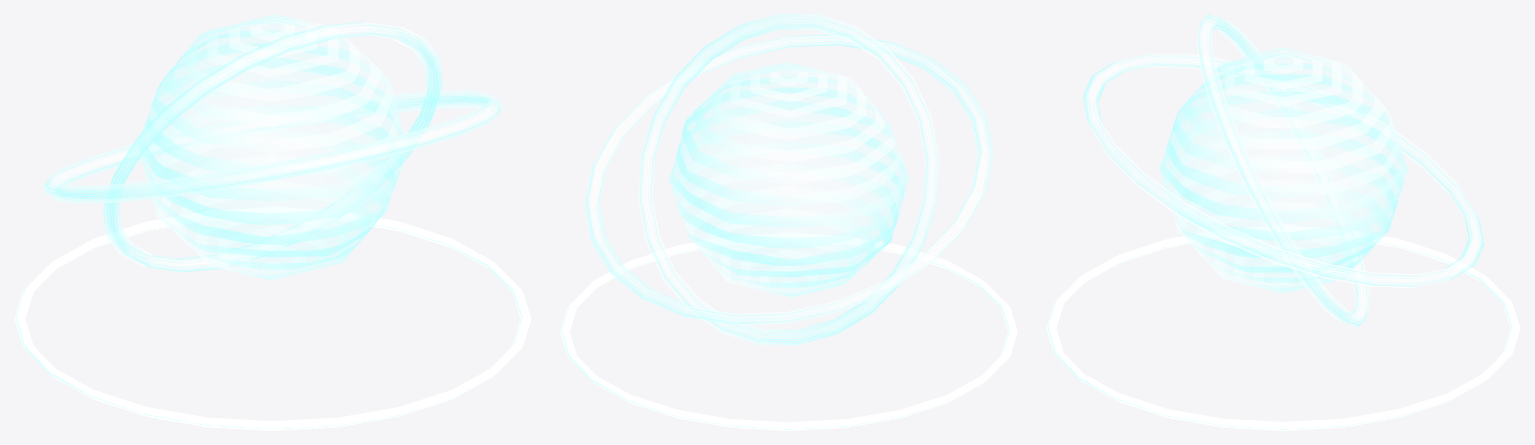
File: holograma.glb
3 views of the same model, side by side, from view 1: azimuth 30°, elevation 25°; view 2: azimuth 150°, elevation 25°; view 3: azimuth 270°, elevation 25° (orthographic). The views are drawn at different scales.
Visible parts, largest first — view 1: holograma; view 2: holograma; view 3: holograma.
Boxes of the visible parts, x1,y1,x2,y2 form: holograma: [14, 14, 531, 430]; holograma: [560, 14, 1017, 430]; holograma: [1046, 14, 1520, 430].
Size of the model in its own units: 2.86 by 2 by 2.86.
2 materials, 1 textured.
